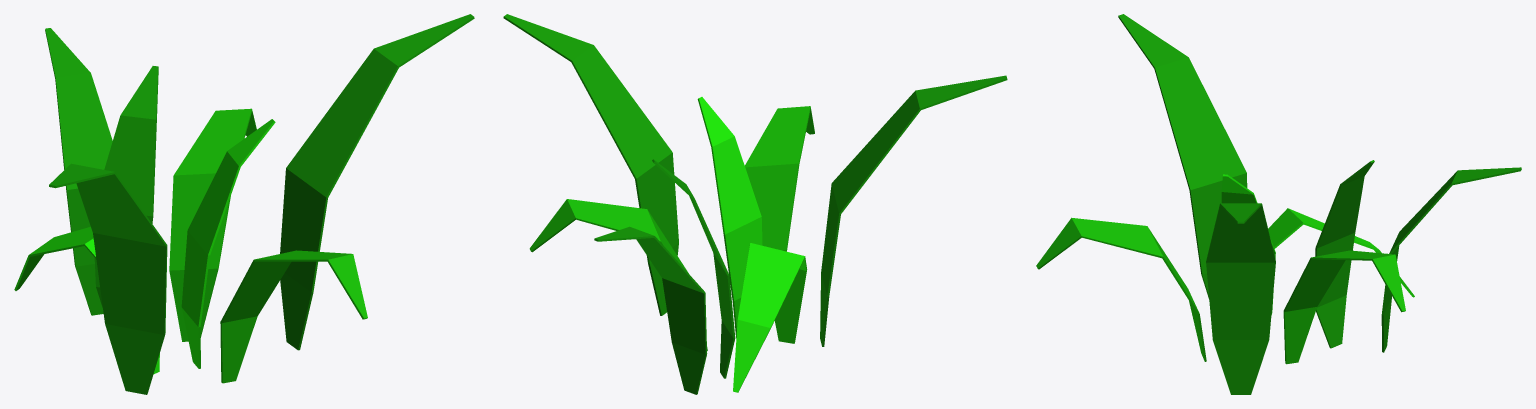
Rendered from grass_-_Copy_sideway2.fbx.
3 views of the same model, side by side, from view 1: azimuth 30°, elevation 25°; view 2: azimuth 150°, elevation 25°; view 3: azimuth 270°, elevation 25° (orthographic). The views are drawn at different scales.
Parts seen in each view (by area): view 1: Plane.002; view 2: Plane.002; view 3: Plane.002.
Part boxes in pixels (bbox=[...]): Plane.002: bbox=[14, 14, 474, 394]; Plane.002: bbox=[503, 14, 1007, 394]; Plane.002: bbox=[1036, 14, 1521, 394].
Bounding box in the file's own units: 1743 × 978 × 1720.
